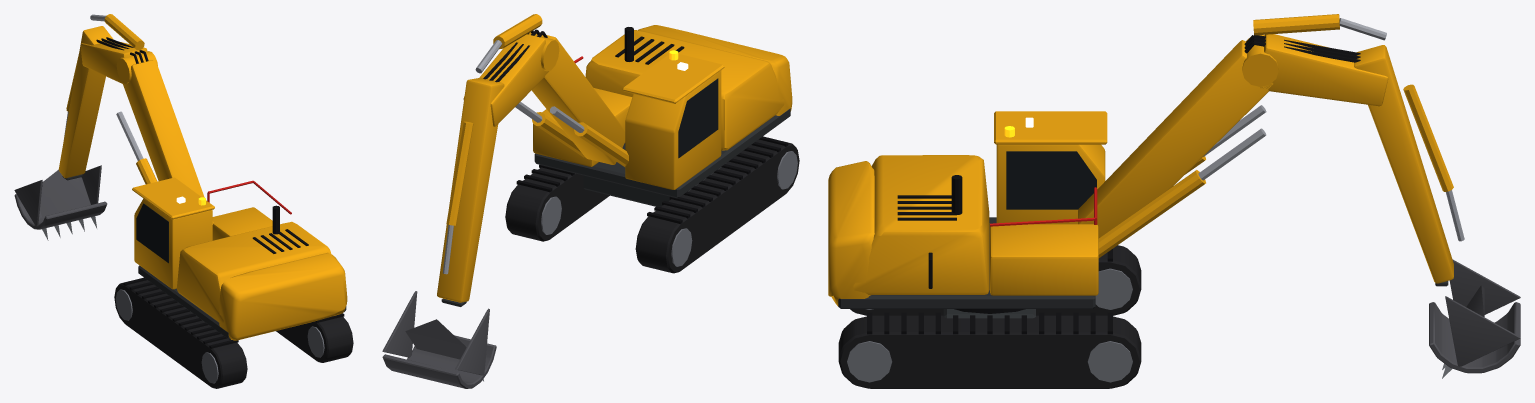
The model's file is excavator.glb.
3 renders of one model, left to right at view 1: azimuth 30°, elevation 25°; view 2: azimuth 150°, elevation 25°; view 3: azimuth 270°, elevation 25°, orthographic. The views are drawn at different scales.
Visible parts, largest first — view 1: Excavator; view 2: Excavator; view 3: Excavator.
Boxes of the visible parts, box(x1,y1,x2,y2) form: Excavator: box(14, 14, 353, 388); Excavator: box(382, 14, 799, 388); Excavator: box(828, 14, 1520, 388).
Size of the model in its own units: 3.31 by 5.82 by 10.49.
